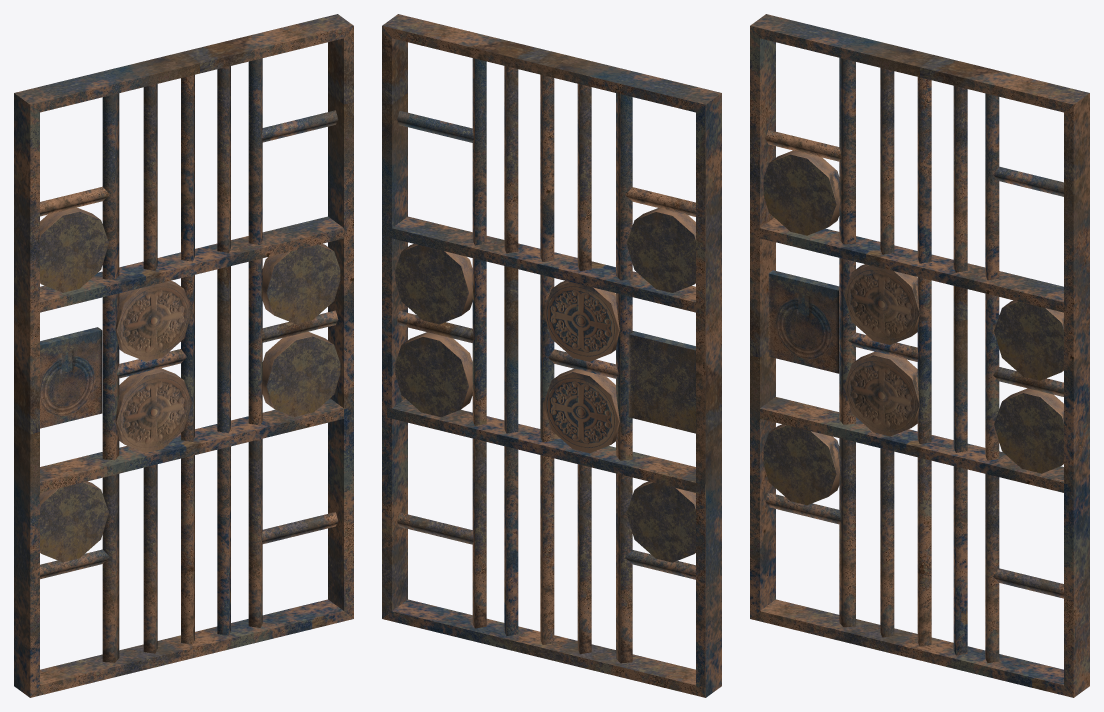
File: GateB.fbx
The picture shows the model from 3 angles, left to right: view 1: azimuth 30°, elevation 25°; view 2: azimuth 150°, elevation 25°; view 3: azimuth 330°, elevation 25°; orthographic projection.
Visible parts, largest first — view 1: GateB; view 2: GateB; view 3: GateB.
Part boxes in pixels (x1,y1,x2,y2): GateB: (14,14,353,697); GateB: (382,14,721,697); GateB: (750,14,1089,697).
Bounding box in the file's own units: 116 × 204 × 10.
Materials: 1 (1 with a texture image).
